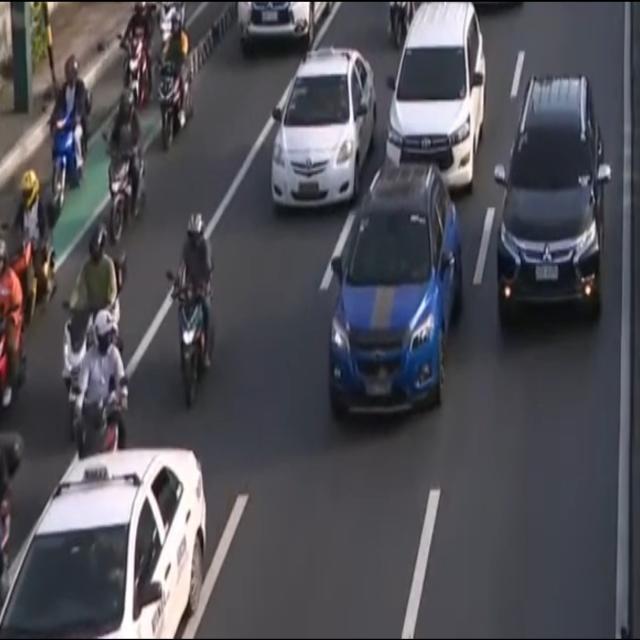Motorcycle: (160, 194, 226, 403), (60, 226, 130, 388), (70, 308, 126, 476), (48, 33, 92, 221), (102, 82, 149, 242), (14, 152, 59, 319), (156, 8, 196, 152)
SUV: (317, 130, 467, 458), (488, 39, 613, 343), (382, 0, 484, 202)
Sedan: (0, 415, 213, 640), (265, 34, 383, 215)
